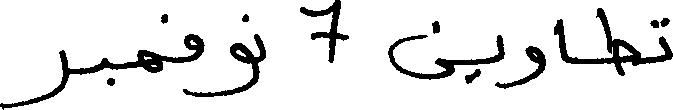X: (0, 45, 69, 109), (389, 16, 453, 84), (597, 3, 640, 80), (300, 0, 346, 67), (230, 9, 255, 99), (185, 29, 202, 101), (525, 41, 544, 87), (139, 45, 160, 77), (660, 13, 672, 66), (556, 14, 567, 67), (257, 29, 265, 86), (496, 30, 503, 92), (101, 53, 108, 89)
